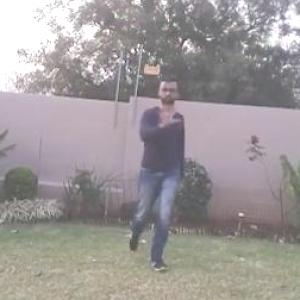follow_hand: (154, 100, 184, 130)
